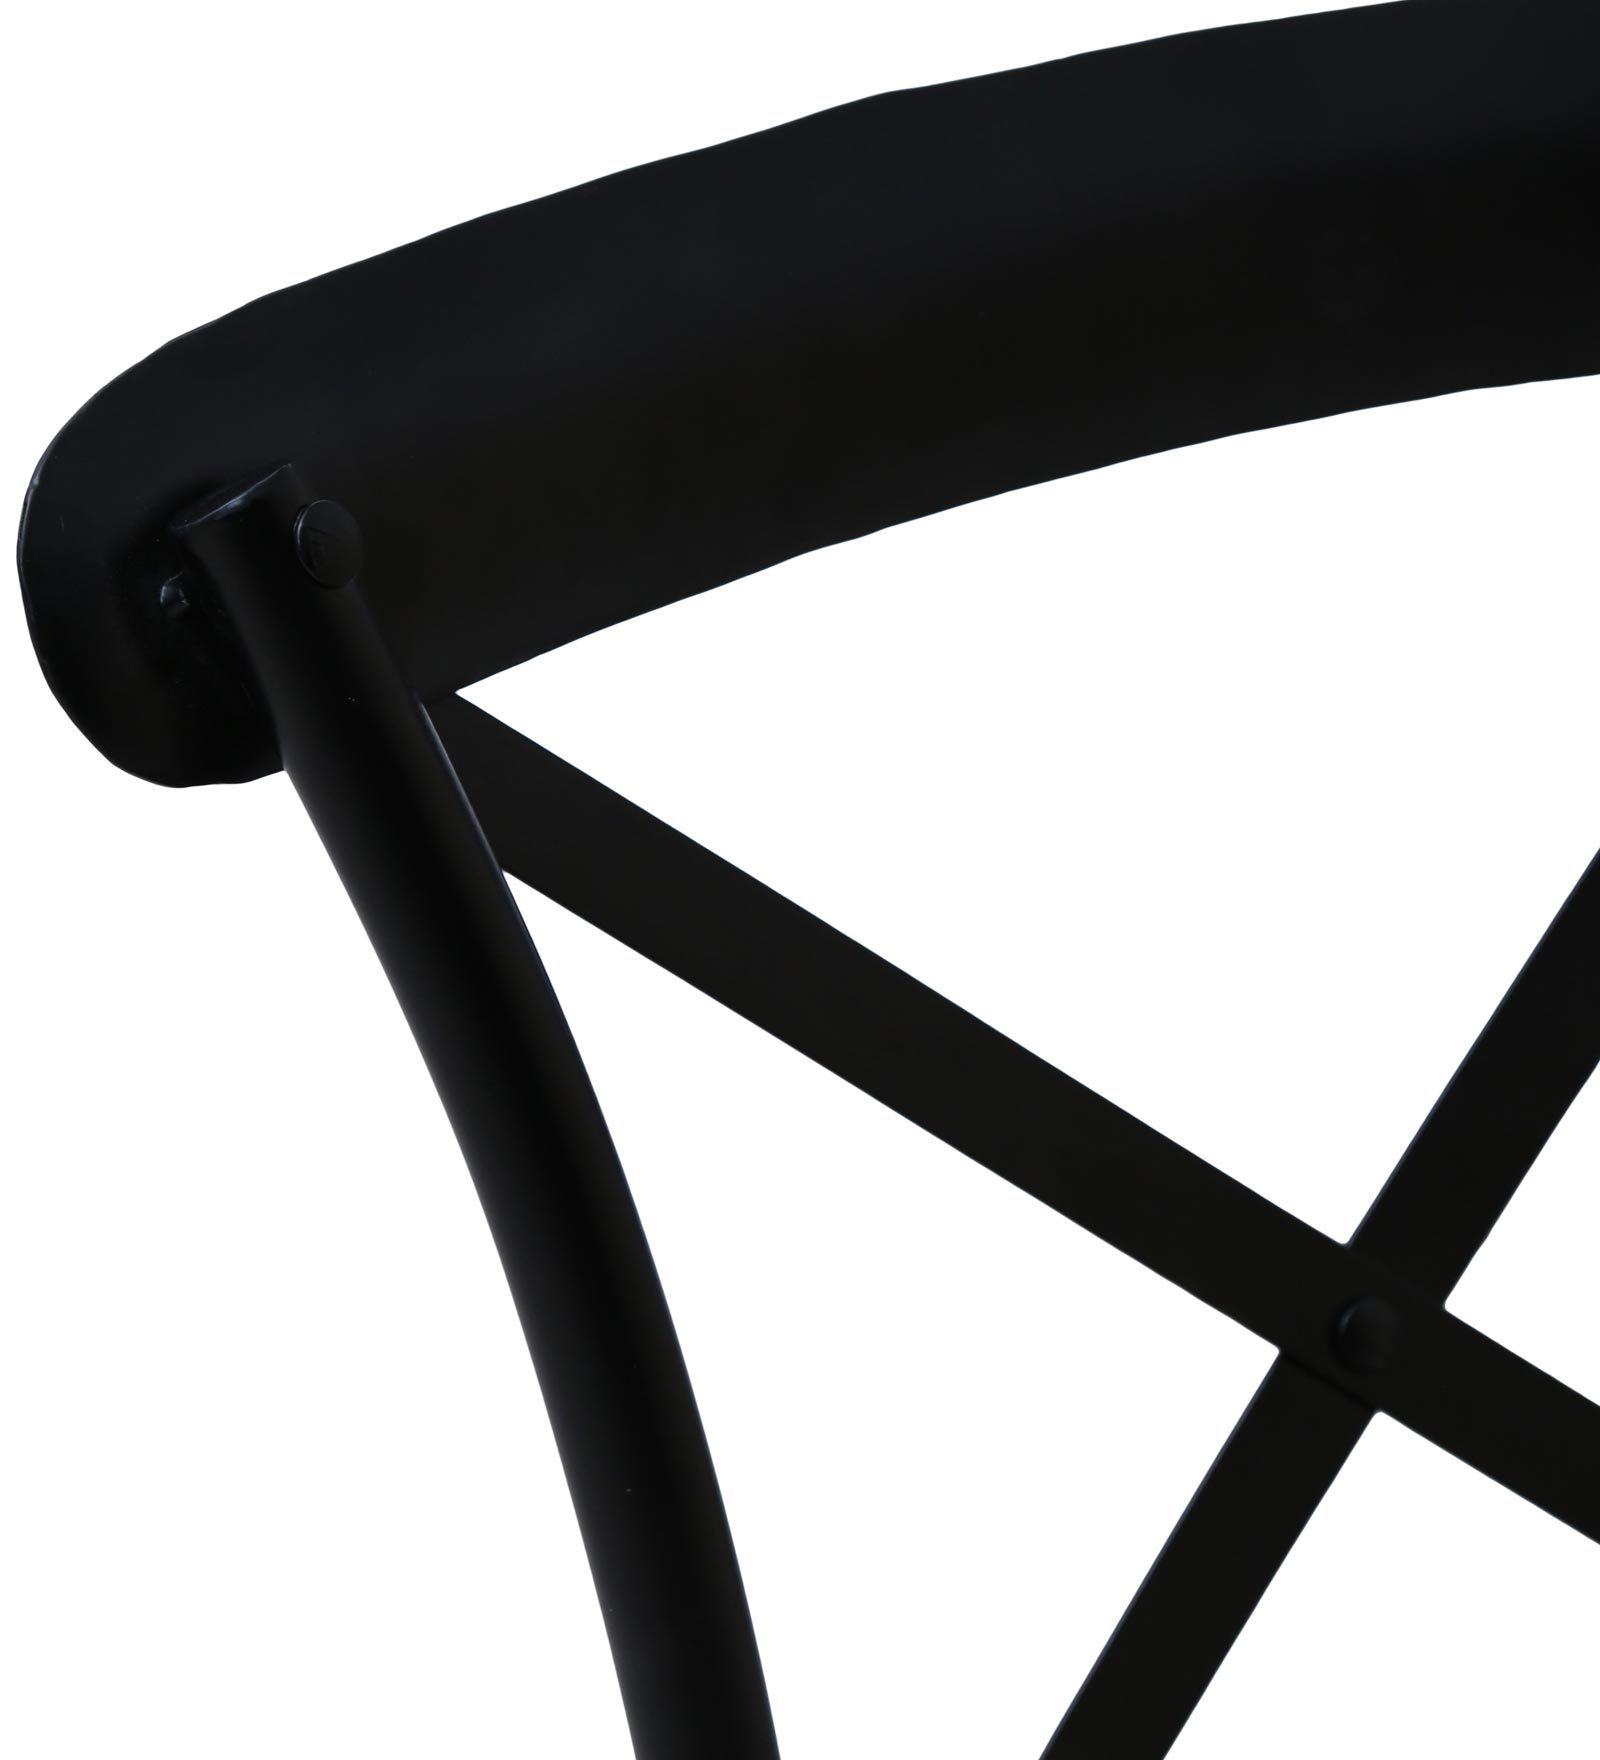Fabian Metal Chair in Black Color by Bohemiana: (23, 2, 1589, 1760)
